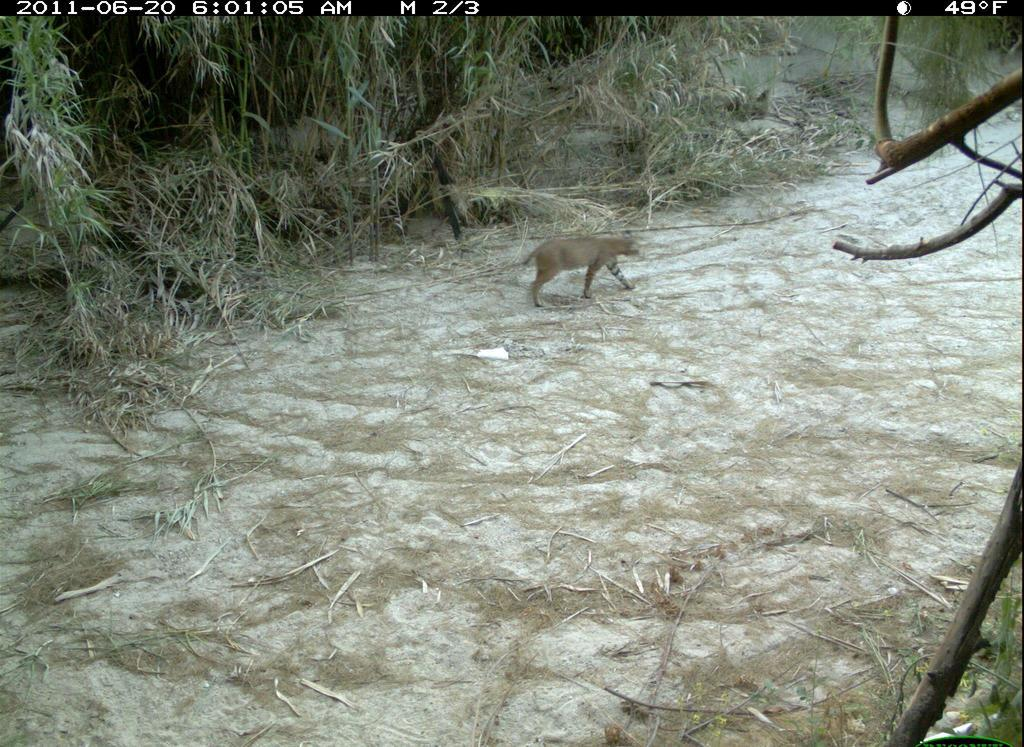bobcat: (515, 226, 647, 314)
